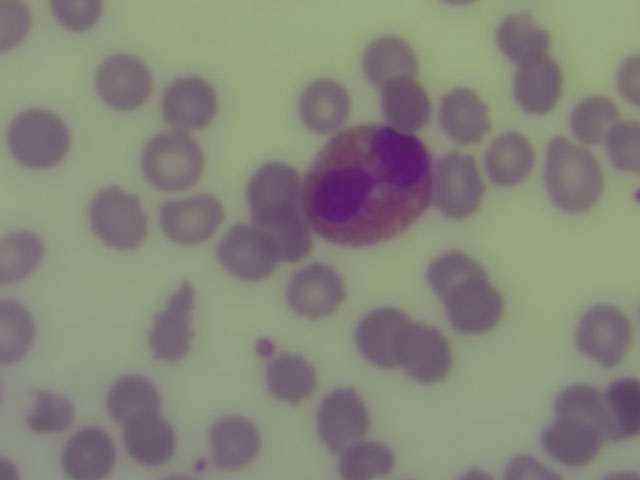Platelets: (252, 335, 278, 364), (190, 454, 211, 478)
RBC: (544, 150, 599, 209), (289, 266, 340, 317), (220, 227, 271, 278), (249, 205, 300, 256), (248, 161, 299, 212), (570, 93, 621, 144), (513, 58, 564, 109), (497, 10, 548, 61), (487, 132, 538, 183), (449, 281, 500, 332), (432, 248, 483, 299), (432, 157, 483, 208), (440, 88, 491, 139), (379, 78, 430, 129), (365, 33, 416, 84), (297, 78, 348, 129), (561, 381, 612, 432), (579, 308, 630, 359), (400, 327, 451, 378), (356, 309, 407, 360), (321, 391, 372, 442), (268, 352, 319, 403), (164, 192, 215, 243), (210, 417, 261, 468), (125, 413, 176, 464), (108, 370, 159, 421), (65, 429, 116, 480), (22, 383, 73, 434), (144, 309, 195, 360), (92, 191, 143, 242), (147, 134, 198, 185), (164, 77, 215, 128), (10, 113, 61, 164), (100, 54, 151, 105), (1, 296, 36, 368), (541, 424, 600, 464), (338, 442, 397, 480), (1, 230, 43, 283), (47, 1, 110, 33), (501, 448, 556, 480), (611, 378, 640, 438), (609, 120, 640, 174), (1, 1, 31, 53)
WBC: (305, 127, 433, 245)
